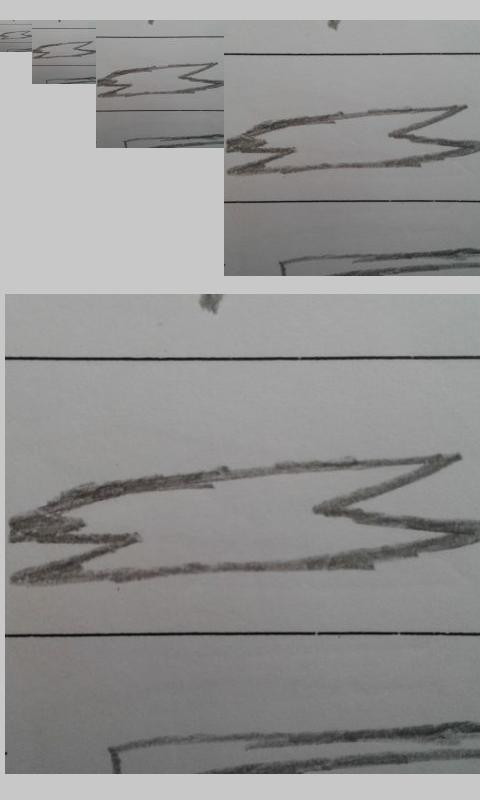edit_text: (15, 451, 480, 591), (229, 103, 480, 176), (101, 63, 222, 98), (34, 41, 95, 59), (1, 30, 31, 40)
